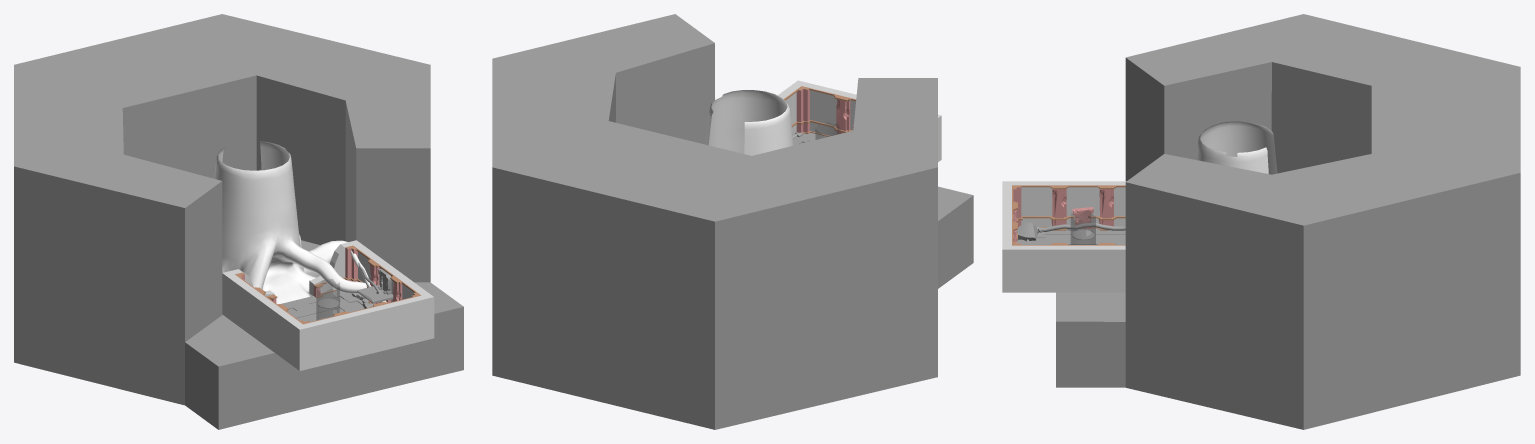
The model's file is salle_1_present02.fbx.
3 renders of one model, left to right at view 1: azimuth 30°, elevation 25°; view 2: azimuth 150°, elevation 25°; view 3: azimuth 270°, elevation 25°, orthographic. The views are drawn at different scales.
Parts seen in each view (by area): view 1: pCylinder11, tree3, mur_angle32, mur_angle31, mur_porte_detruitA22, angle_mur42, angle_mur41, mur_porte_detruitA23, pCylinder9, sol_present3, mur_porte_detruitA24, sol_present6; view 2: pCylinder11, tree3, mur_angle31, mur_porte_detruitA22; view 3: pCylinder11, tree3, mur_angle31, mur_porte_detruitA24, mur_angle32, mur_porte_detruitA23, angle_mur42, angle_mur41, pCylinder9, sol_present4.
Part boxes in pixels (x1,y1,x2,y2): pCylinder11: [14, 14, 463, 429]; tree3: [214, 141, 366, 304]; mur_angle32: [272, 306, 347, 370]; mur_angle31: [379, 277, 434, 349]; mur_porte_detruitA22: [340, 303, 386, 359]; angle_mur42: [309, 240, 383, 303]; angle_mur41: [222, 269, 277, 333]; mur_porte_detruitA23: [249, 290, 284, 350]; pCylinder9: [316, 279, 340, 320]; sol_present3: [280, 296, 334, 320]; mur_porte_detruitA24: [371, 260, 406, 303]; sol_present6: [317, 291, 368, 312]; pCylinder11: [492, 14, 973, 429]; tree3: [706, 90, 793, 155]; mur_angle31: [777, 80, 848, 136]; mur_porte_detruitA22: [840, 93, 856, 133]; pCylinder11: [1056, 14, 1520, 429]; tree3: [1196, 121, 1277, 174]; mur_angle31: [1002, 225, 1059, 292]; mur_porte_detruitA24: [1059, 243, 1106, 292]; mur_angle32: [1002, 181, 1059, 236]; mur_porte_detruitA23: [1059, 181, 1106, 230]; angle_mur42: [1107, 243, 1125, 292]; angle_mur41: [1107, 181, 1126, 230]; pCylinder9: [1070, 209, 1095, 244]; sol_present4: [1059, 228, 1106, 244].
Size of the model in its own units: 52.69 by 23.86 by 54.52.
